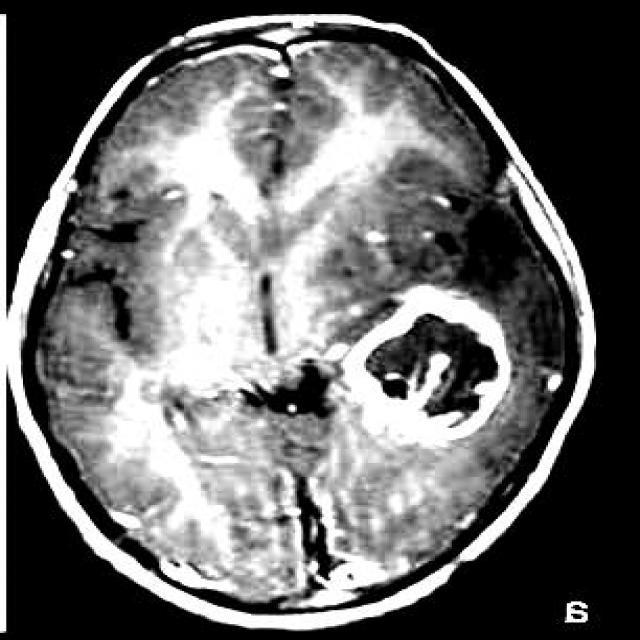tumor: (318, 251, 560, 497)
